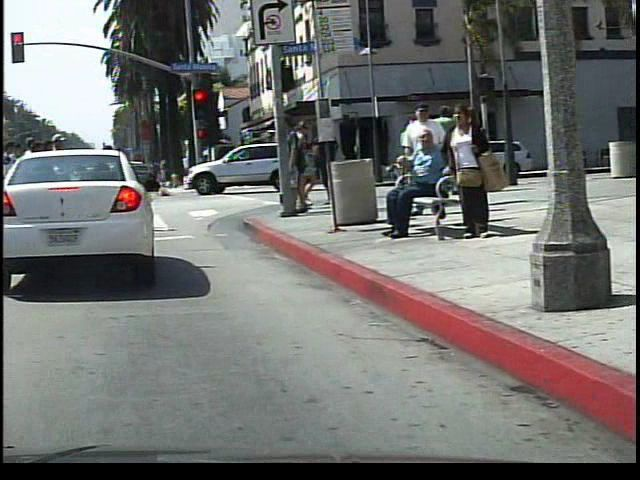person: (436, 100, 496, 238), (380, 131, 450, 244), (288, 118, 330, 209), (188, 147, 213, 198)
